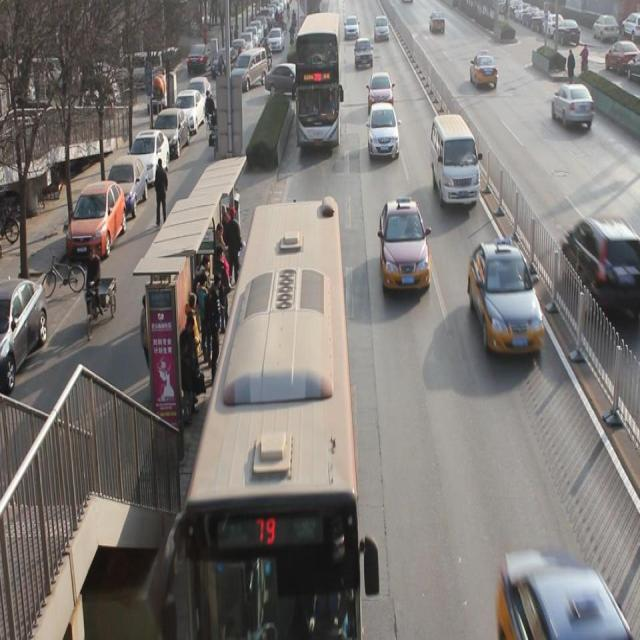car: (469, 242, 544, 357), (562, 218, 640, 324), (380, 201, 430, 288), (552, 83, 598, 137), (368, 104, 400, 161), (468, 54, 498, 92), (368, 72, 395, 114), (354, 39, 374, 70), (374, 16, 389, 41), (344, 17, 359, 40)
truck: (430, 117, 480, 208)
van: (187, 198, 362, 640), (294, 9, 340, 150)
